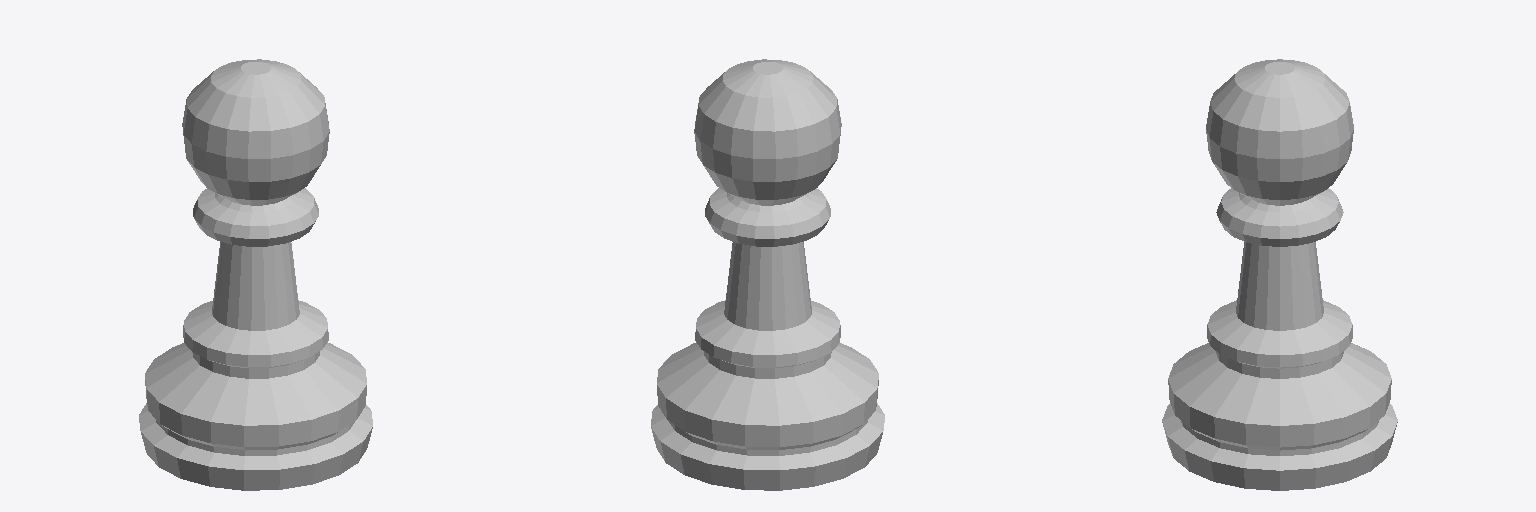
Rendered from blackSoldier.obj.
3 views of the same model, side by side, from view 1: azimuth 30°, elevation 25°; view 2: azimuth 150°, elevation 25°; view 3: azimuth 270°, elevation 25° (orthographic).
Visible parts, largest first — view 1: blackSoldier:pCylinder32; view 2: blackSoldier:pCylinder32; view 3: blackSoldier:pCylinder32.
Part boxes in pixels (x1,y1,x2,y2): blackSoldier:pCylinder32: (139, 59, 372, 490); blackSoldier:pCylinder32: (651, 59, 884, 490); blackSoldier:pCylinder32: (1162, 59, 1397, 490).
Bounding box in the file's own units: 4.04 × 7.1 × 4.04.